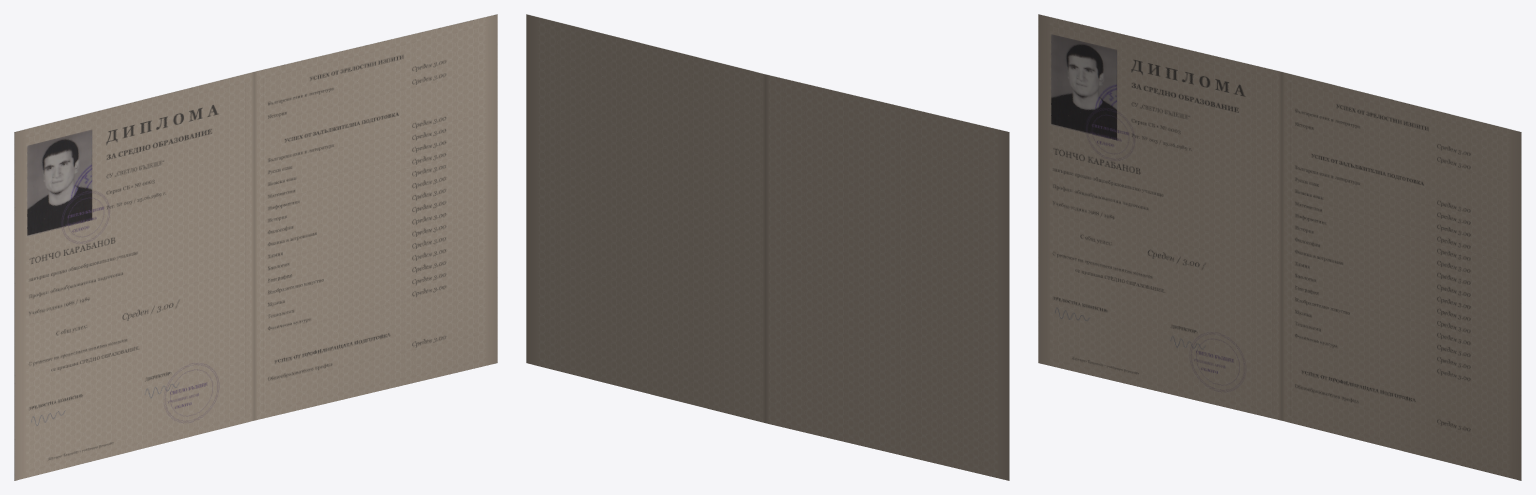
The model's file is tony-diploma-inspection.glb.
3 renders of one model, left to right at view 1: azimuth 30°, elevation 25°; view 2: azimuth 150°, elevation 25°; view 3: azimuth 330°, elevation 25°, orthographic.
Parts seen in each view (by area): view 1: Diploma front, Diploma paper thickness; view 2: Diploma back, Diploma paper thickness; view 3: Diploma front, Diploma paper thickness.
Part boxes in pixels (box(x1,y1,x2,y2)): Diploma front: box(14, 14, 497, 480); Diploma paper thickness: box(14, 14, 497, 480); Diploma back: box(526, 14, 1009, 480); Diploma paper thickness: box(526, 14, 1009, 480); Diploma front: box(1038, 14, 1521, 480); Diploma paper thickness: box(1038, 14, 1521, 480).
Bounding box in the file's own units: 0.29 × 0.2 × 0.00226.
3 materials, 2 textured.
